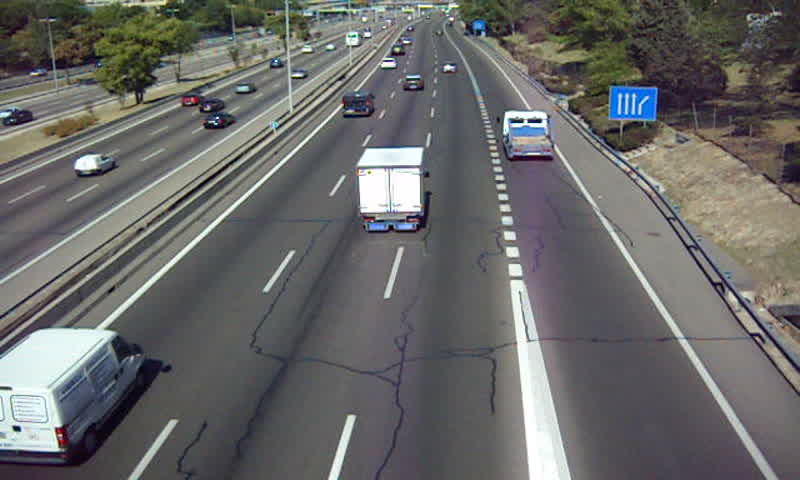car: (401, 74, 425, 94), (379, 56, 396, 72), (442, 61, 458, 73)
small-truck: (358, 147, 426, 234), (501, 110, 554, 159)
van: (1, 329, 145, 467), (341, 92, 373, 117)
